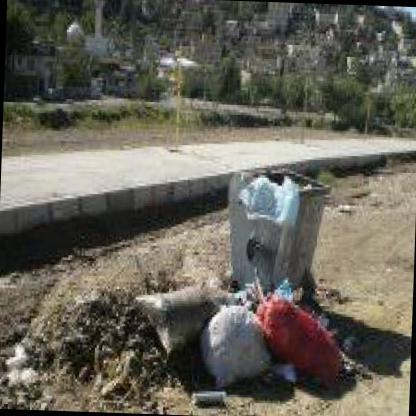Garbage: (260, 280, 345, 388), (247, 170, 301, 234), (192, 384, 235, 414)
